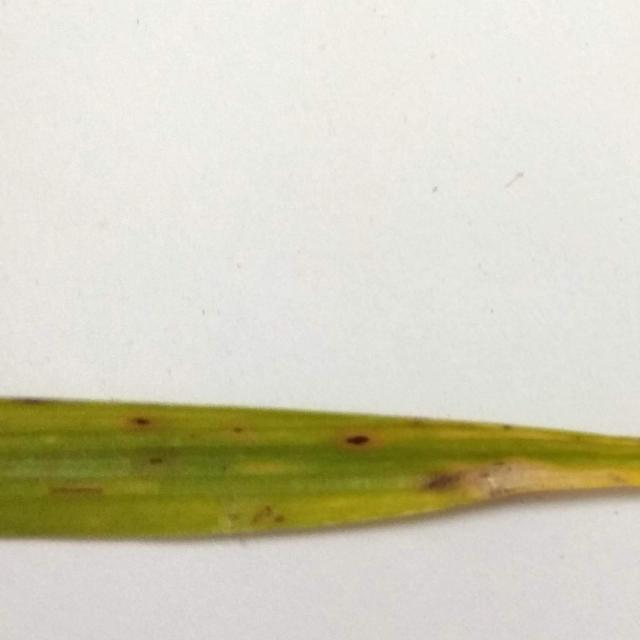Brown spot: (0, 220, 640, 569)
